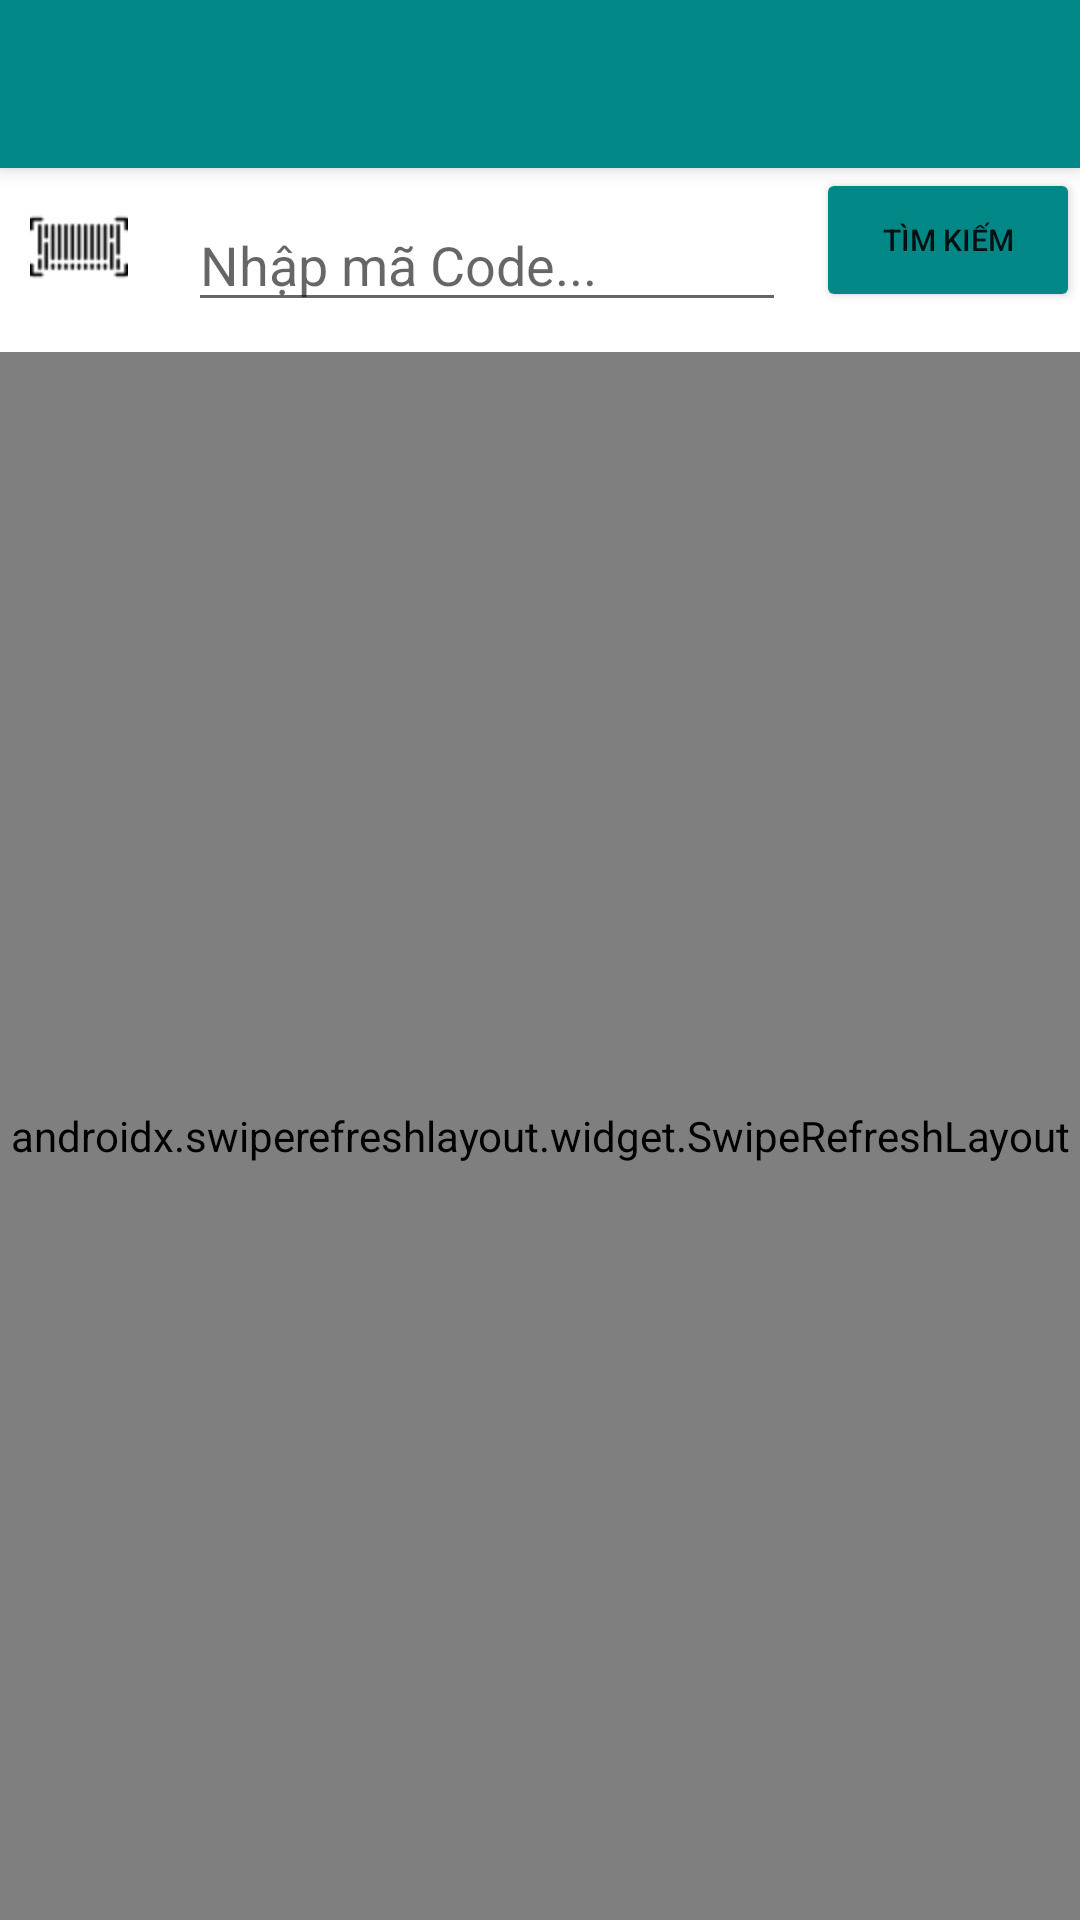

Icon bounding boxes for this 1080px×1920px phone screenshot, format (x1, y1, x2, y2):
barcode: (30, 216, 128, 278)
